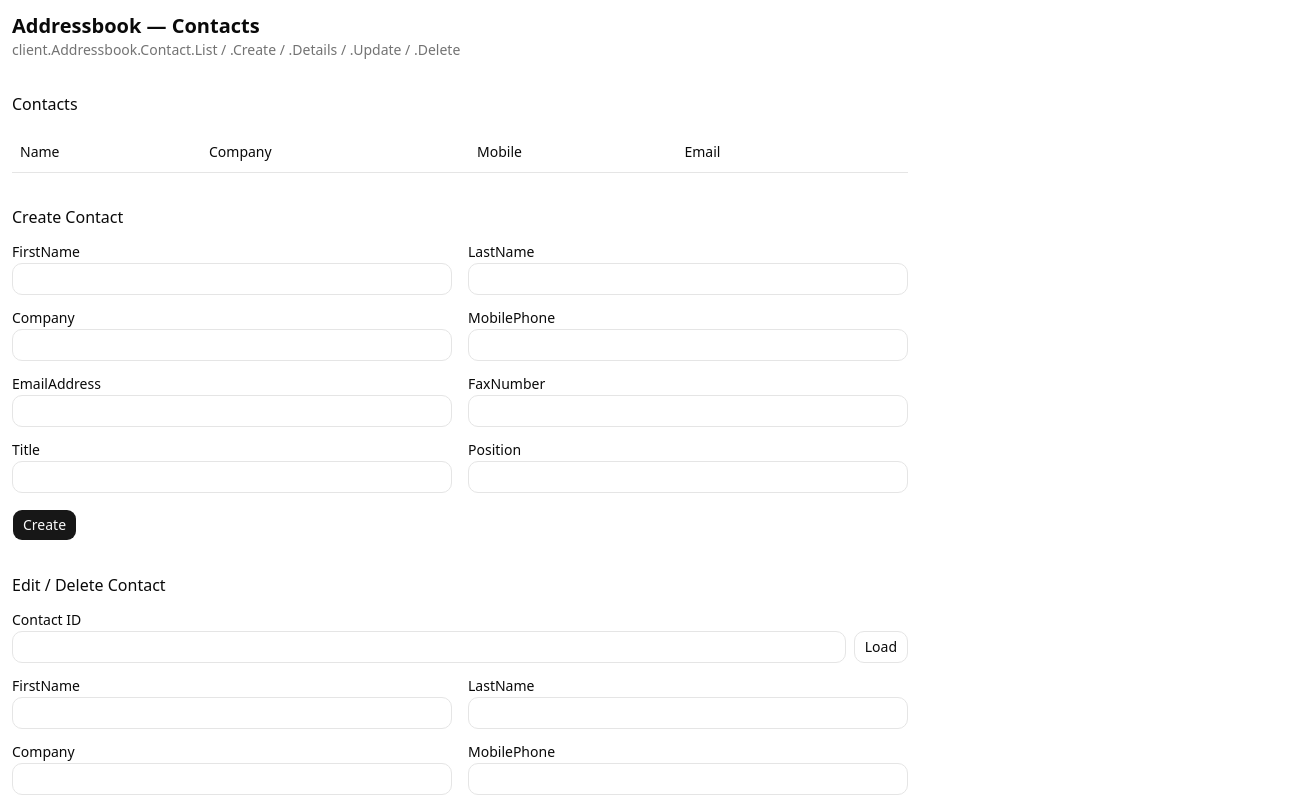
Test case: ContactsPage › Load fetches contact details into the edit form
Expected: the heading "Create Contact" is shown, [12,206,123,228]
Type "c-1" into the field labelled "Contact ID". click: (429, 646)
box: [12,630,846,662]
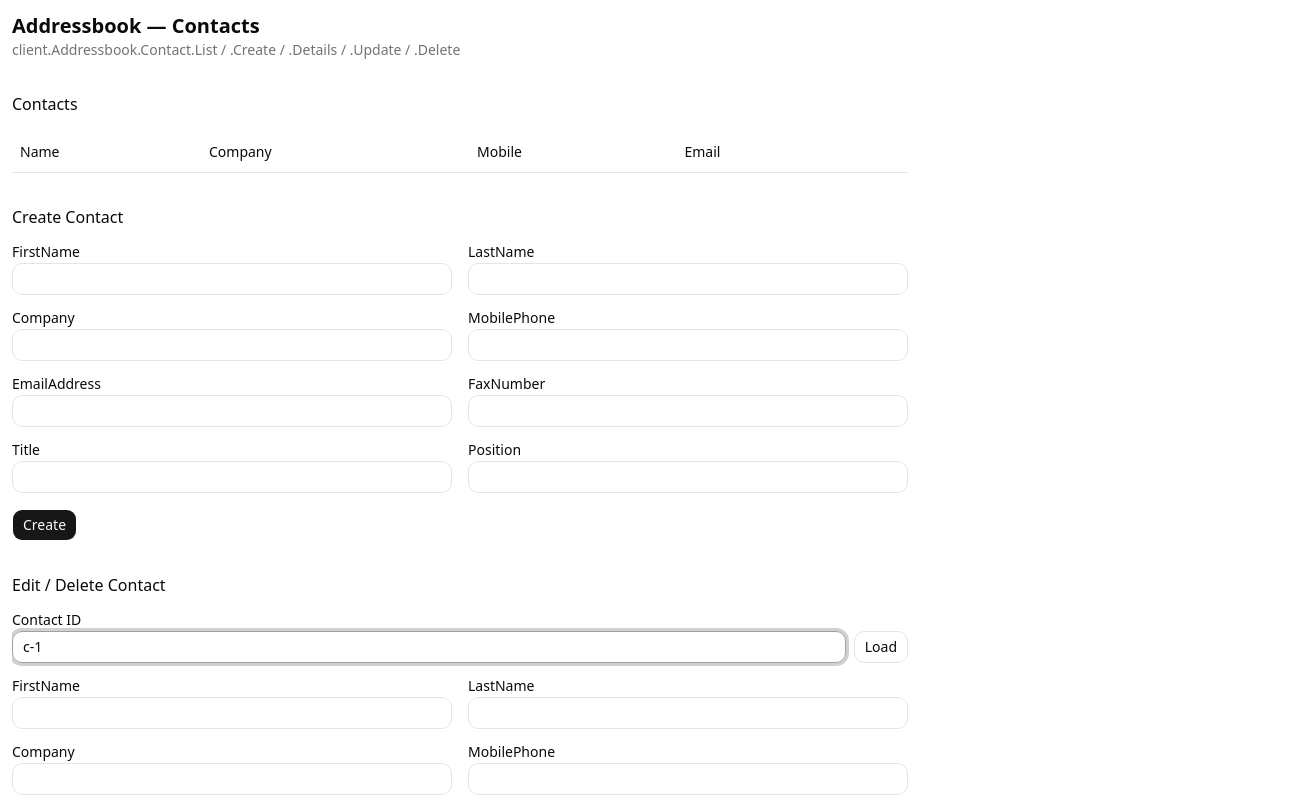
Click the button "Load". click: (881, 646)
box: [854,630,908,662]
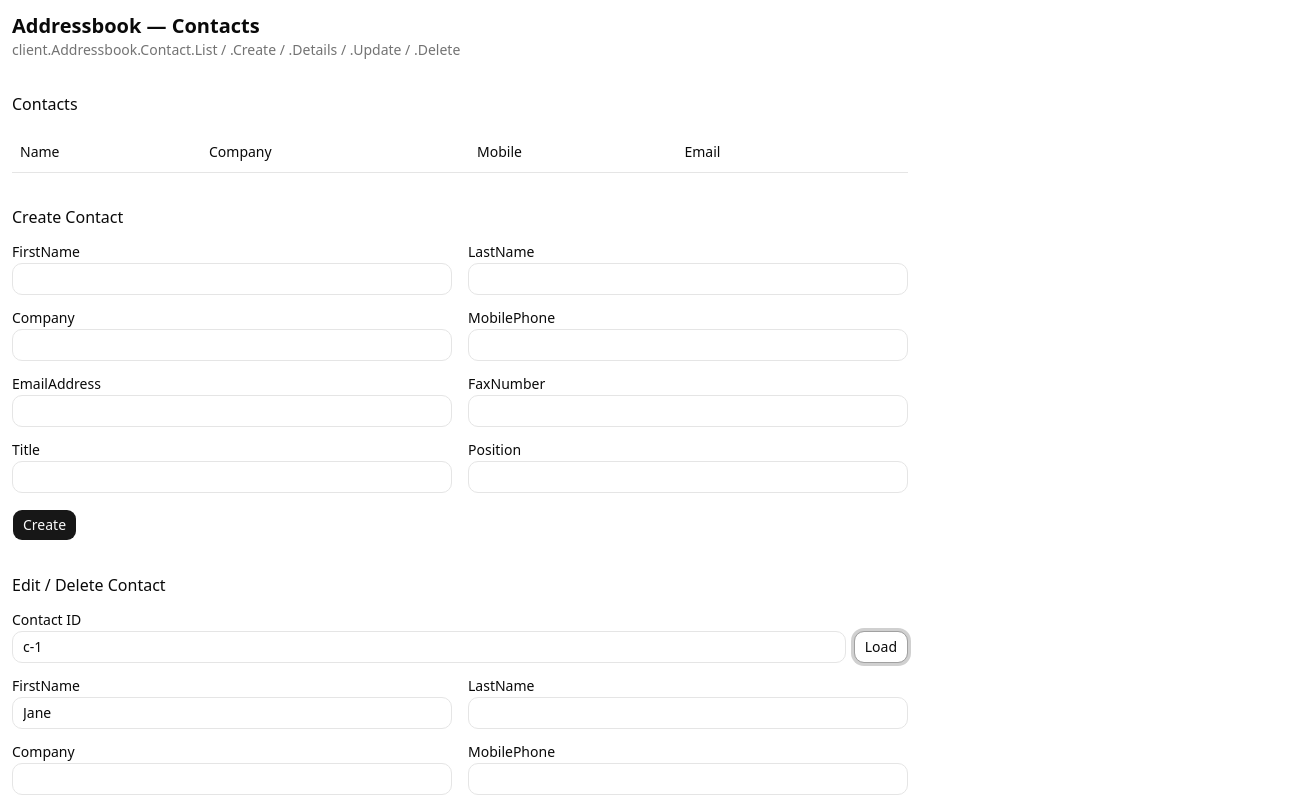
Expected: the field labelled "FirstName" below "Contact ID" holds "Jane", [12,696,452,728]
